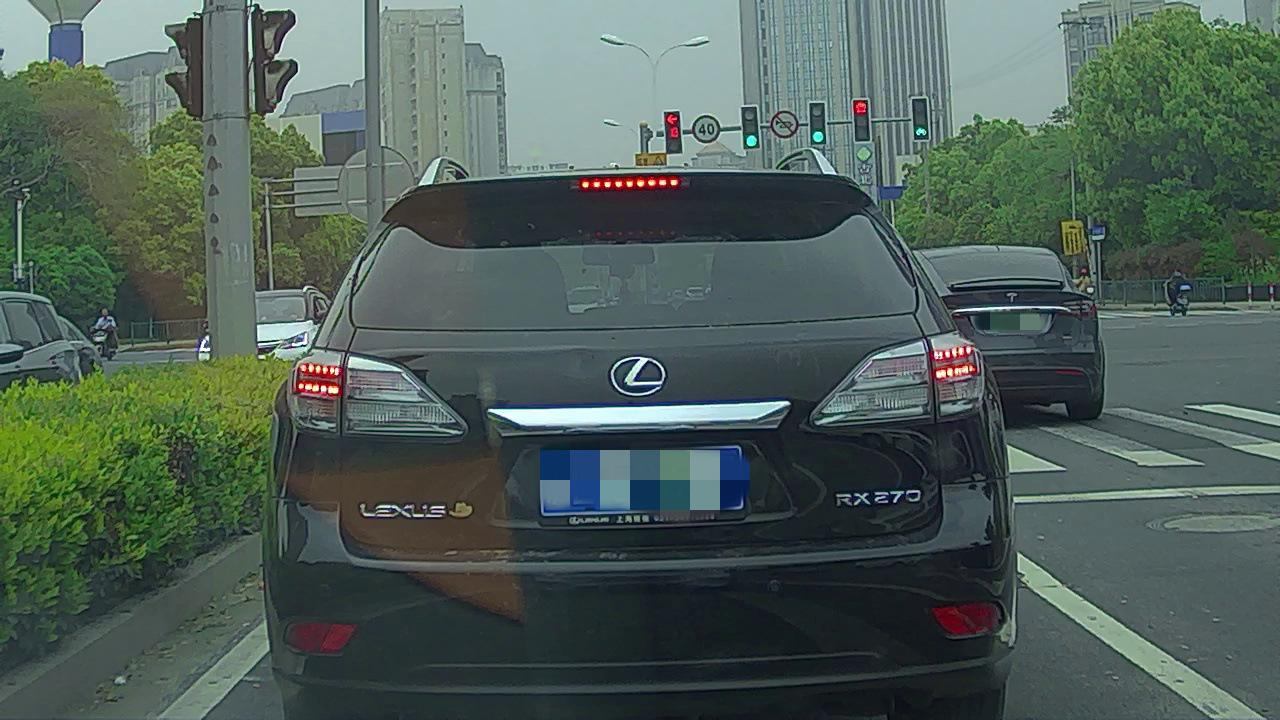traffic_light: (663, 111, 681, 153), (742, 107, 759, 149), (913, 97, 929, 141), (854, 100, 871, 141), (809, 103, 825, 145)
